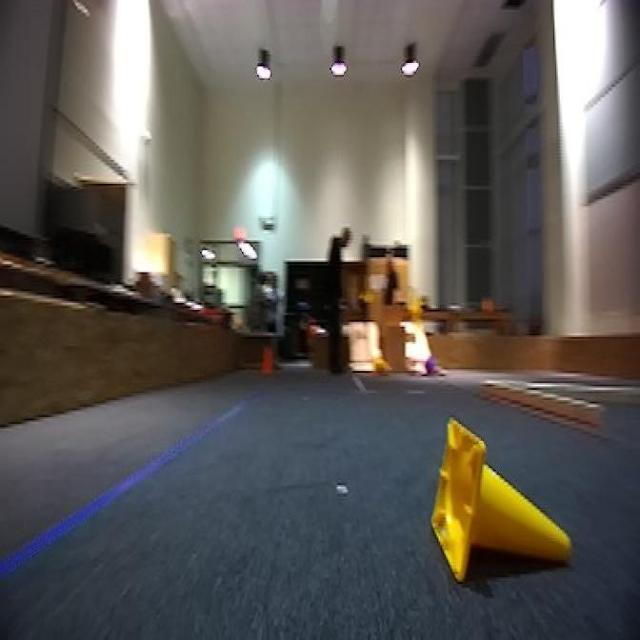frc_cone: (430, 414, 582, 589), (371, 359, 386, 380)
frc_cube: (425, 352, 438, 377)
